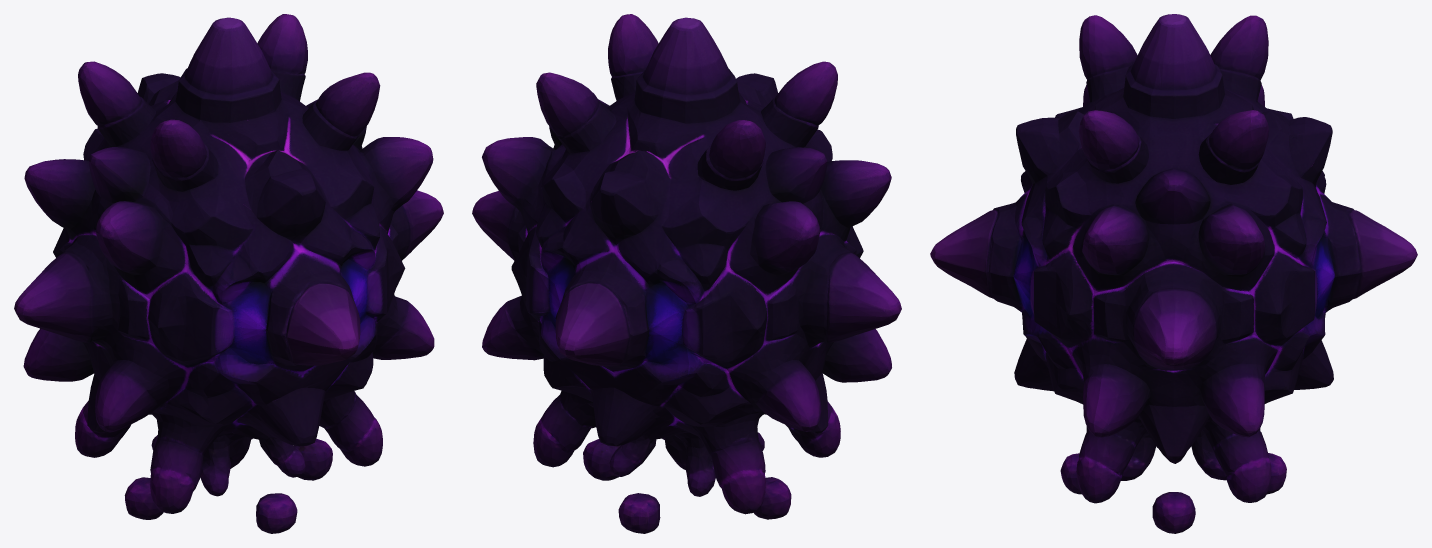
File: trellis-1.glb
3 views of the same model, side by side, from view 1: azimuth 30°, elevation 25°; view 2: azimuth 150°, elevation 25°; view 3: azimuth 270°, elevation 25° (orthographic).
Parts seen in each view (by area): view 1: world; view 2: world; view 3: world.
Part boxes in pixels (x1=…): world: x1=14, y1=14, x2=443, y2=533; world: x1=472, y1=14, x2=901, y2=533; world: x1=930, y1=14, x2=1417, y2=533.
Size of the model in its own units: 0.9369 by 1 by 0.934.
Materials: 1 (1 with a texture image).
